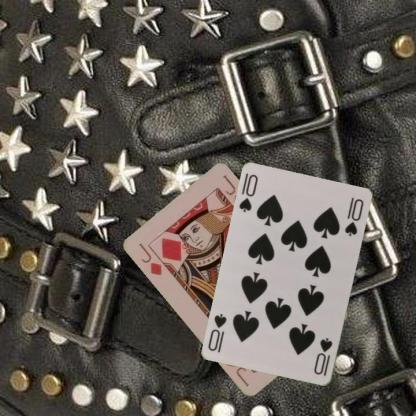10s: (236, 172, 260, 214), (311, 335, 334, 377)
Jd: (136, 240, 164, 277)
